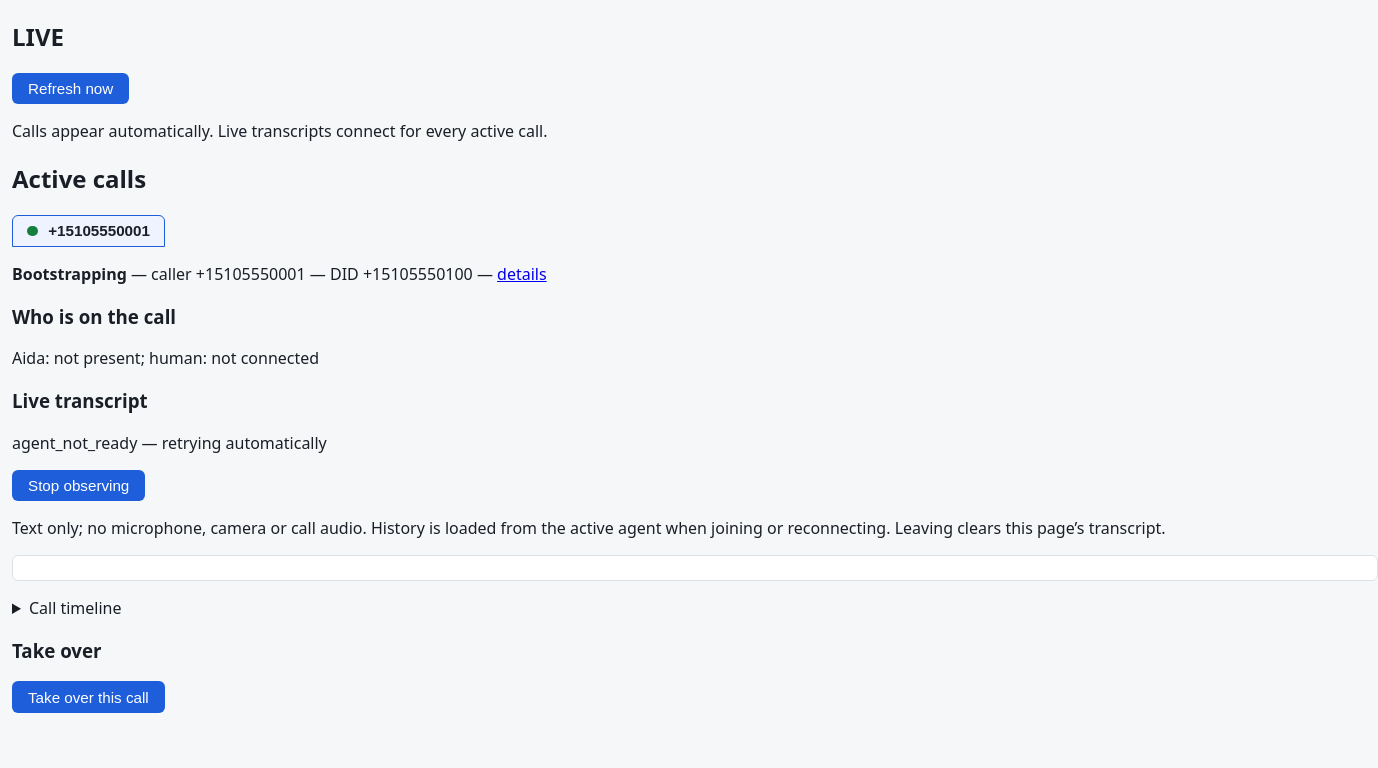
OperationsScreen › submits a takeover once, with an idempotency key and no destination
This screenshot has width=1378, height=768.
Click the button "Take over this call" at (88, 697), box [12,682,165,713]
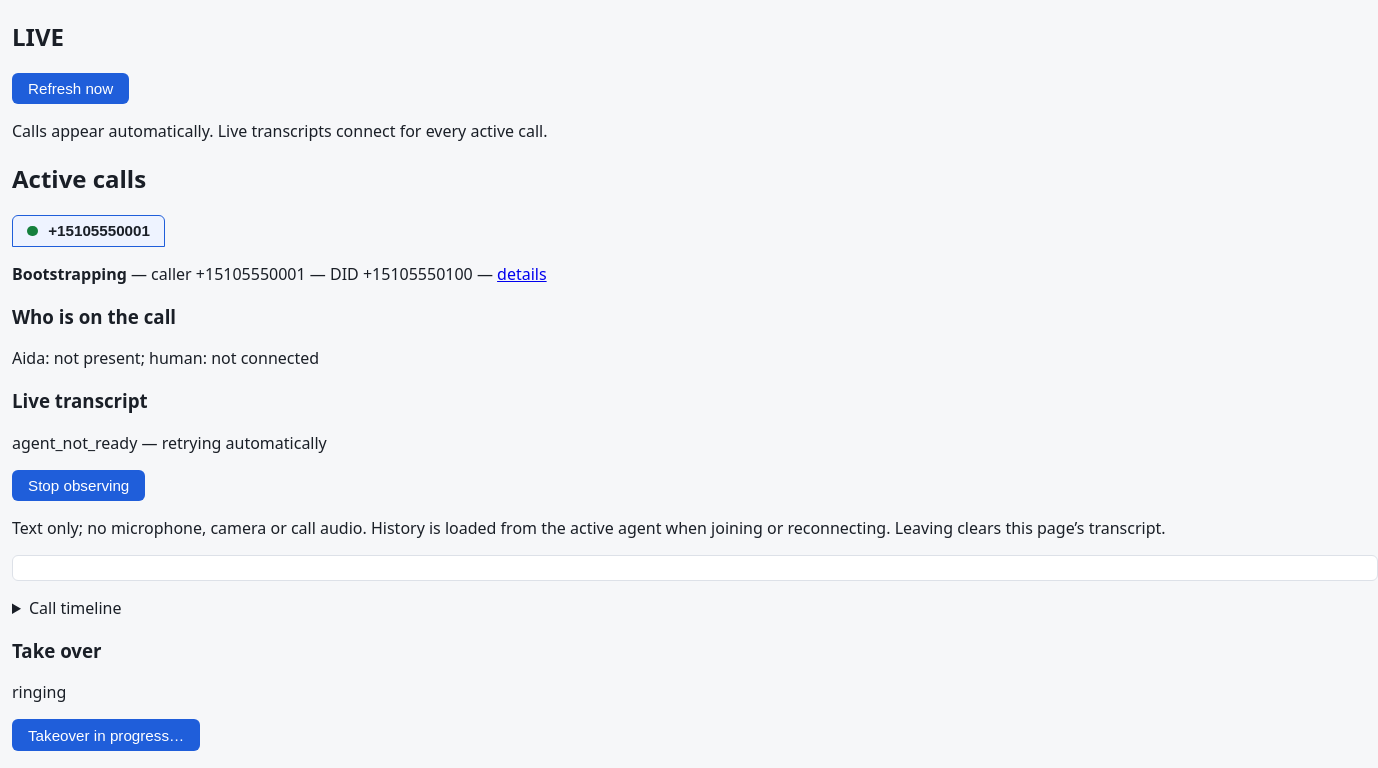
expect the button "Takeover in progress…" is disabled: met, box [12,720,200,751]
